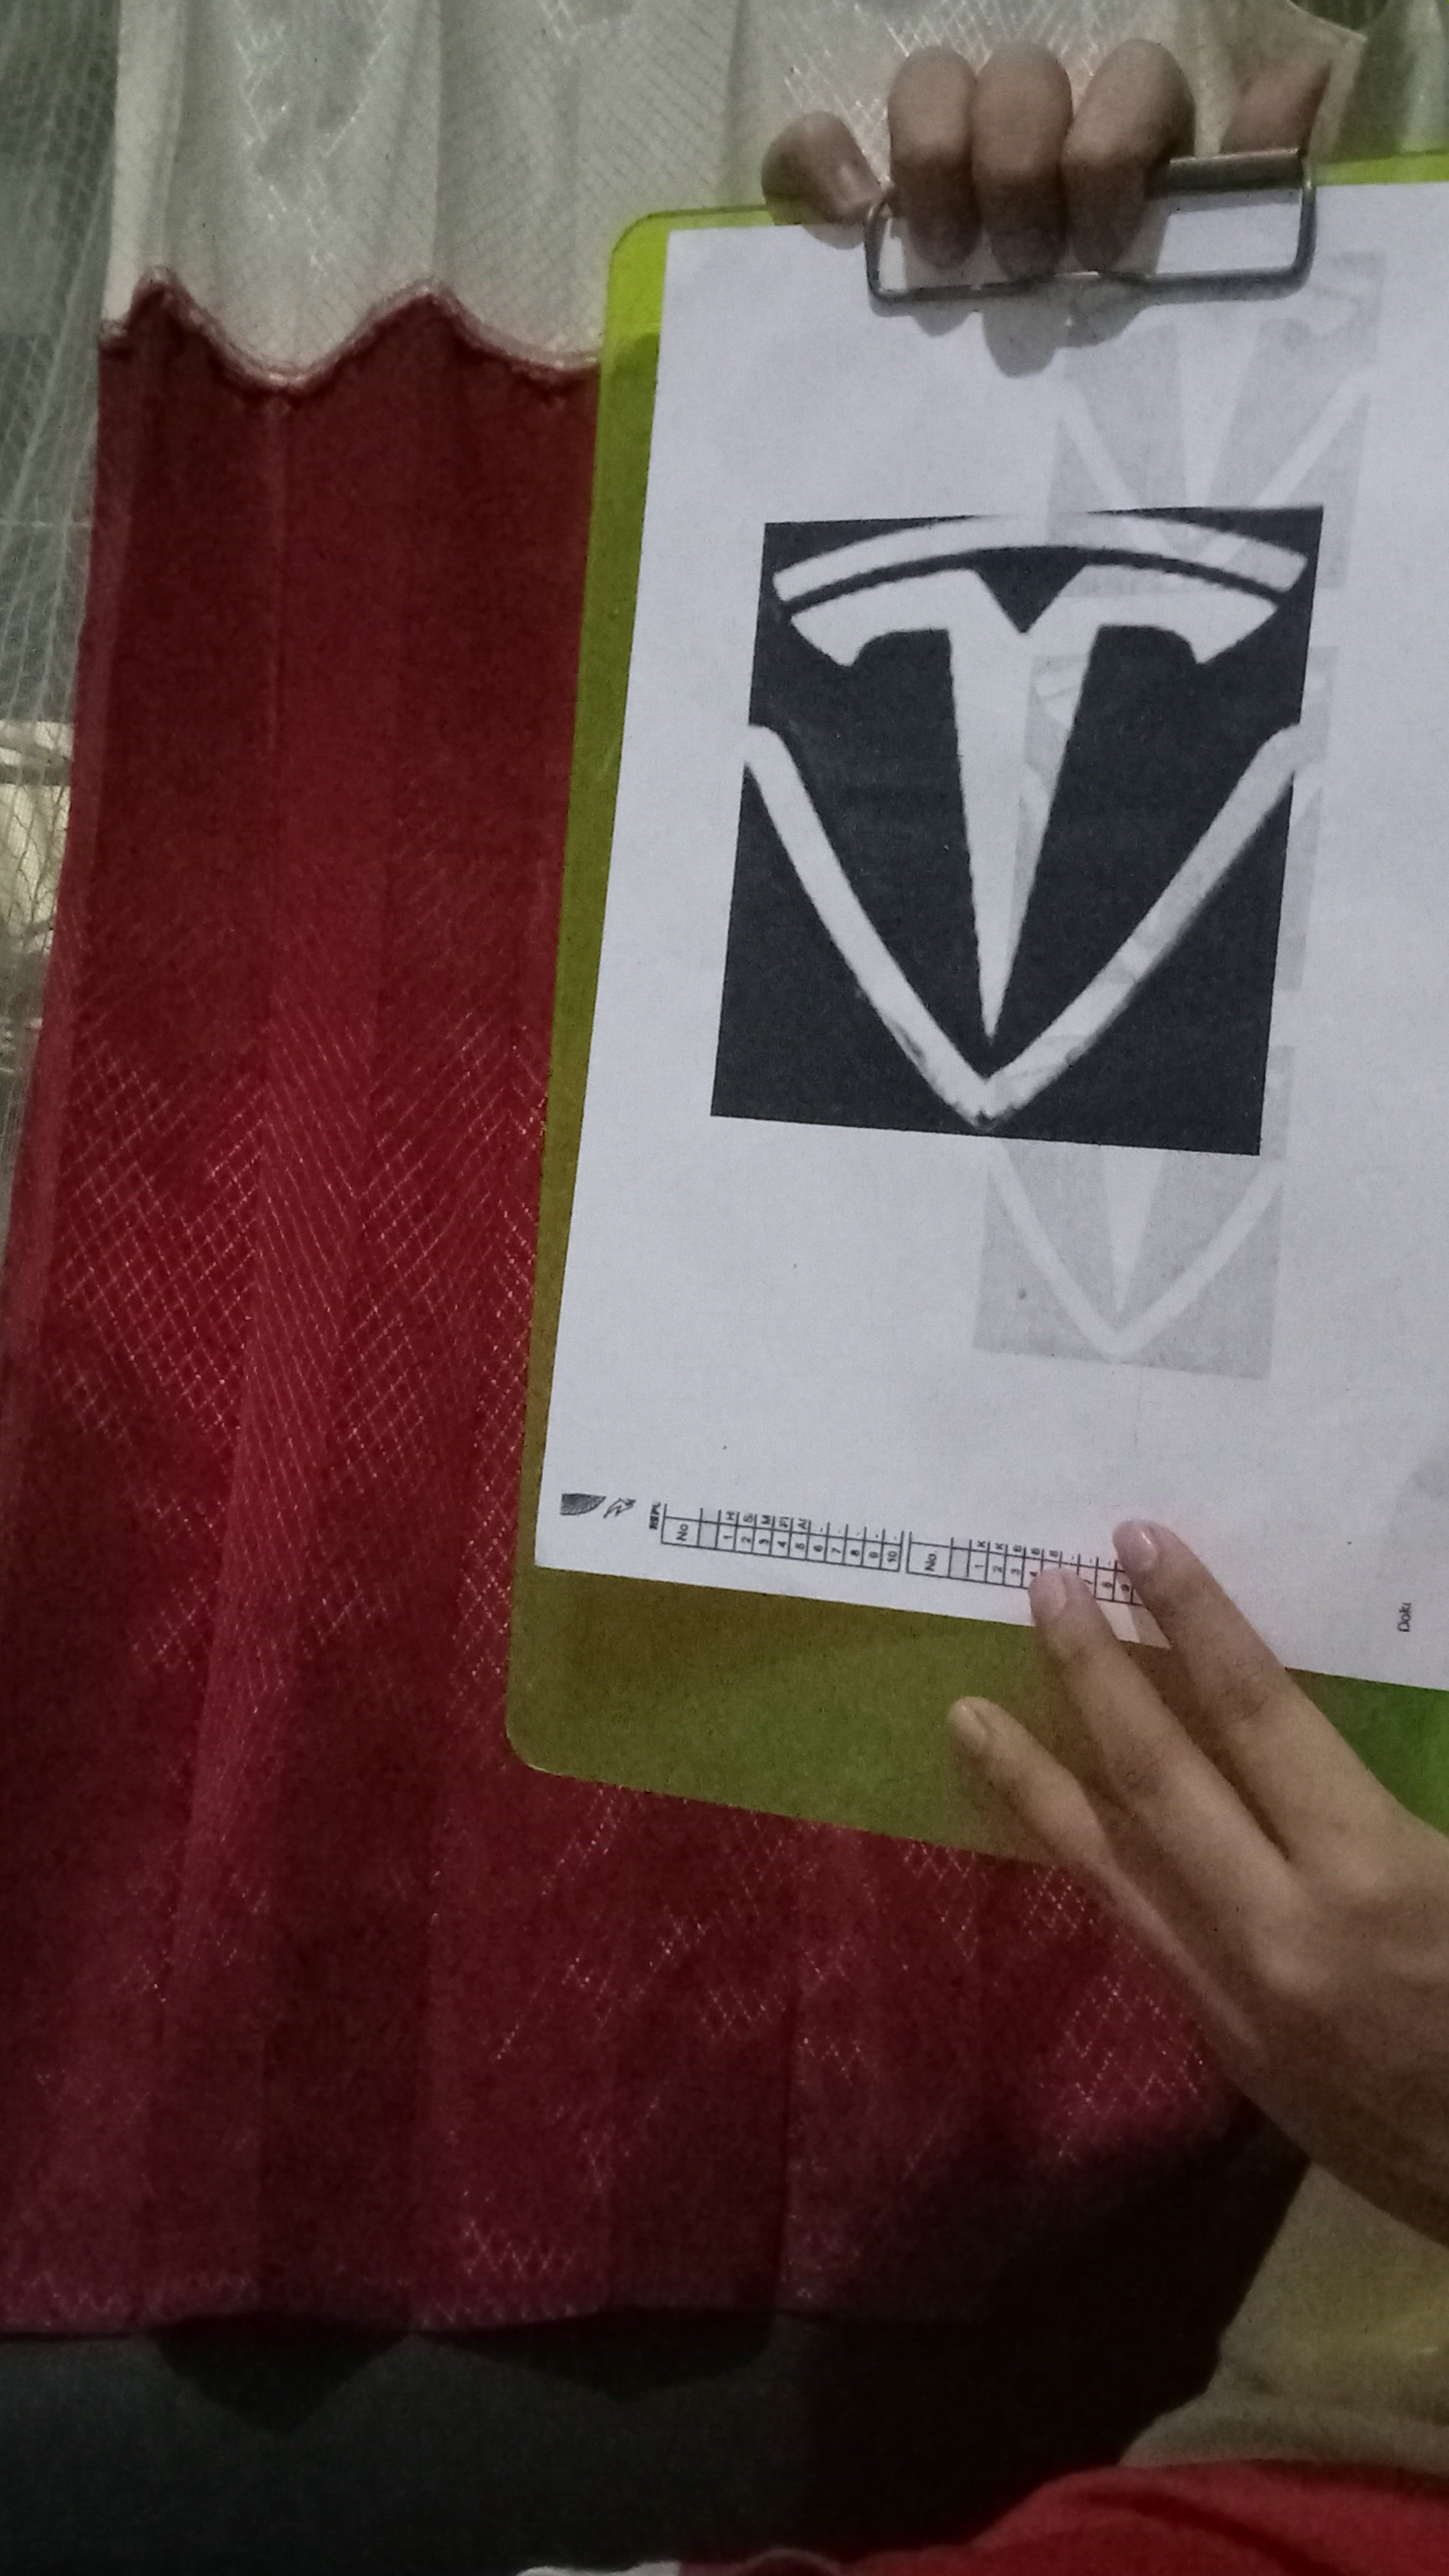Tesla: (741, 506, 1299, 1143)
